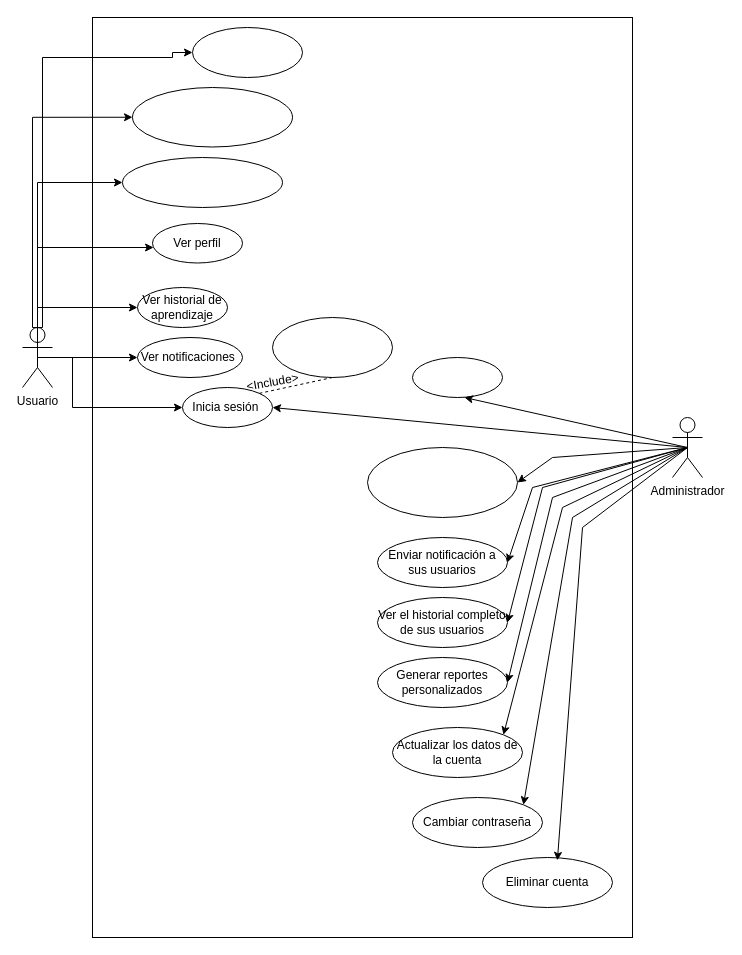
Some shapes in this 742 by 955 pixel diagram are drawn without their labels. The box of each missing label's shape, as (x1, y1, x2, y2) in pixels:
Crea una cuenta: (412, 356, 502, 398)
Jugar con las lecciones de aprendizaje: (122, 156, 282, 208)
Registrar, modificar, eliminar y ver el progreso de sus usuarios: (366, 446, 518, 518)
Ver progreso: (192, 26, 302, 78)
Ver tabla de clasificaciones actuales: (132, 86, 292, 147)
Verificación de los credenciales: (272, 316, 392, 378)
